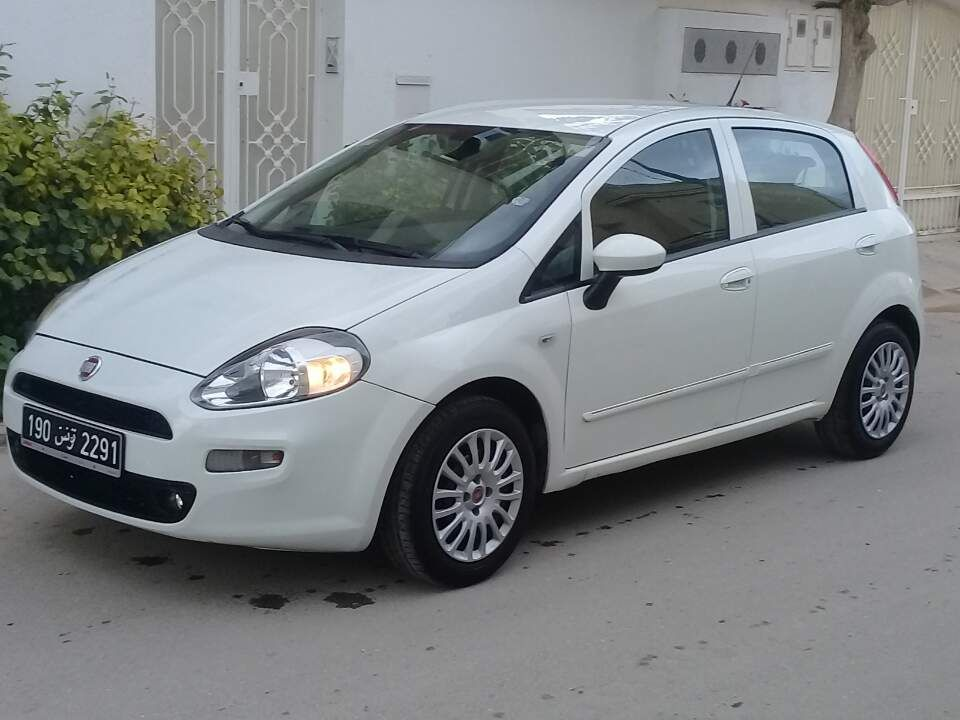LP: (20, 404, 124, 470)
